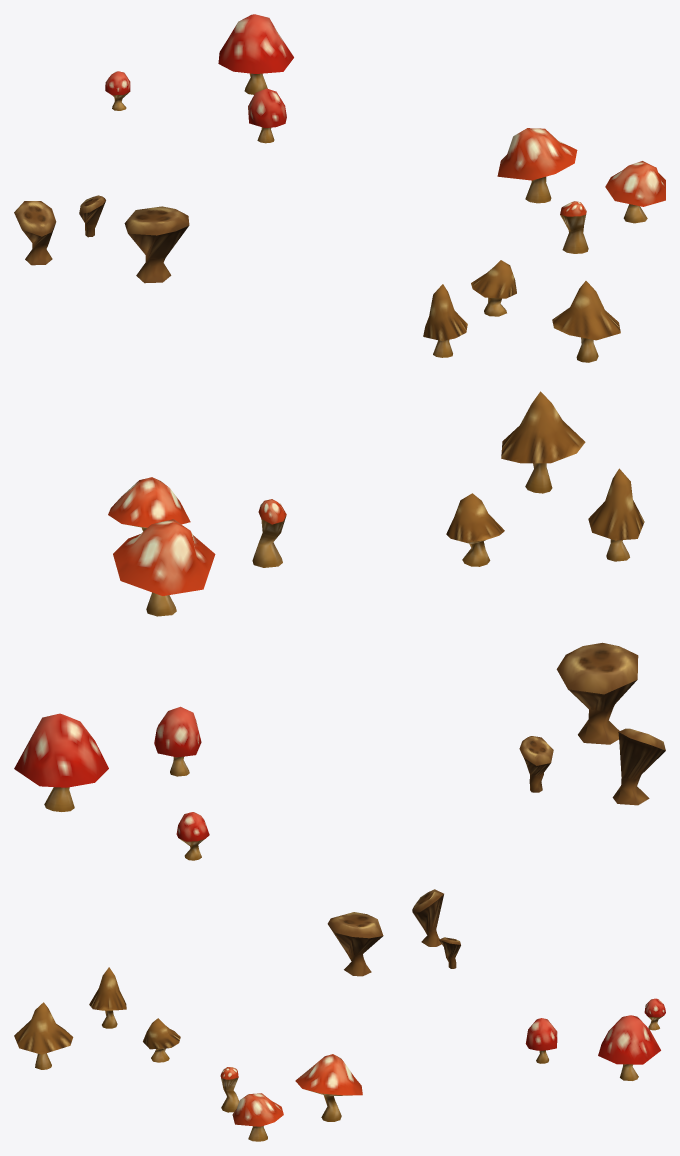
File: Mushrooms01.FBX
The picture shows the model from 3 angles, top to bottom: view 1: azimuth 30°, elevation 25°; view 2: azimuth 150°, elevation 25°; view 3: azimuth 270°, elevation 25°; orthographic projection. The views are drawn at different scales.
Parts seen in each view (by area): view 1: MushroomRed02B, MushroomRed01A, MushroomBrown02A, MushroomBrown01A, MushroomRed01B, MushroomBrown01B, MushroomBrown02B, MushroomBrown01C, MushroomRed02A, MushroomRed01C, MushroomBrown02C, MushroomRed02C; view 2: MushroomRed01A, MushroomRed02B, MushroomBrown02A, MushroomBrown01A, MushroomBrown01B, MushroomRed01B, MushroomBrown02B, MushroomBrown01C, MushroomRed02A, MushroomRed01C, MushroomBrown02C, MushroomRed02C; view 3: MushroomRed02B, MushroomRed01A, MushroomBrown02A, MushroomBrown01A, MushroomRed01B, MushroomBrown01B, MushroomBrown02B, MushroomRed02A, MushroomBrown01C, MushroomRed01C, MushroomRed02C, MushroomBrown02C.
Part boxes in pixels (x1,y1,x2,y2): MushroomRed02B: [218, 14, 293, 94]; MushroomRed01A: [497, 128, 577, 203]; MushroomBrown02A: [124, 206, 189, 283]; MushroomBrown01A: [552, 281, 620, 362]; MushroomRed01B: [605, 161, 665, 223]; MushroomBrown01B: [423, 284, 467, 357]; MushroomBrown02B: [14, 201, 56, 265]; MushroomBrown01C: [471, 260, 516, 316]; MushroomRed02A: [248, 88, 286, 143]; MushroomRed01C: [560, 201, 588, 253]; MushroomBrown02C: [79, 195, 105, 237]; MushroomRed02C: [105, 71, 130, 110]; MushroomRed01A: [113, 519, 215, 616]; MushroomRed02B: [14, 713, 108, 811]; MushroomBrown02A: [556, 642, 638, 744]; MushroomBrown01A: [501, 391, 585, 493]; MushroomBrown01B: [588, 468, 644, 561]; MushroomRed01B: [108, 477, 190, 531]; MushroomBrown02B: [612, 728, 665, 805]; MushroomBrown01C: [446, 493, 504, 566]; MushroomRed02A: [154, 706, 201, 776]; MushroomRed01C: [252, 499, 286, 567]; MushroomBrown02C: [519, 736, 553, 792]; MushroomRed02C: [176, 812, 209, 860]; MushroomRed02B: [598, 1015, 660, 1080]; MushroomRed01A: [295, 1054, 362, 1121]; MushroomBrown02A: [327, 912, 383, 976]; MushroomBrown01A: [14, 1002, 73, 1069]; MushroomRed01B: [232, 1093, 283, 1141]; MushroomBrown01B: [89, 967, 126, 1028]; MushroomBrown02B: [412, 889, 443, 946]; MushroomRed02A: [525, 1018, 557, 1063]; MushroomBrown01C: [143, 1018, 180, 1062]; MushroomRed01C: [220, 1067, 239, 1112]; MushroomRed02C: [644, 998, 665, 1030]; MushroomBrown02C: [439, 937, 460, 968].
Bounding box in the file's own units: 449 × 568 × 62.54.
Materials: 1 (1 with a texture image).
